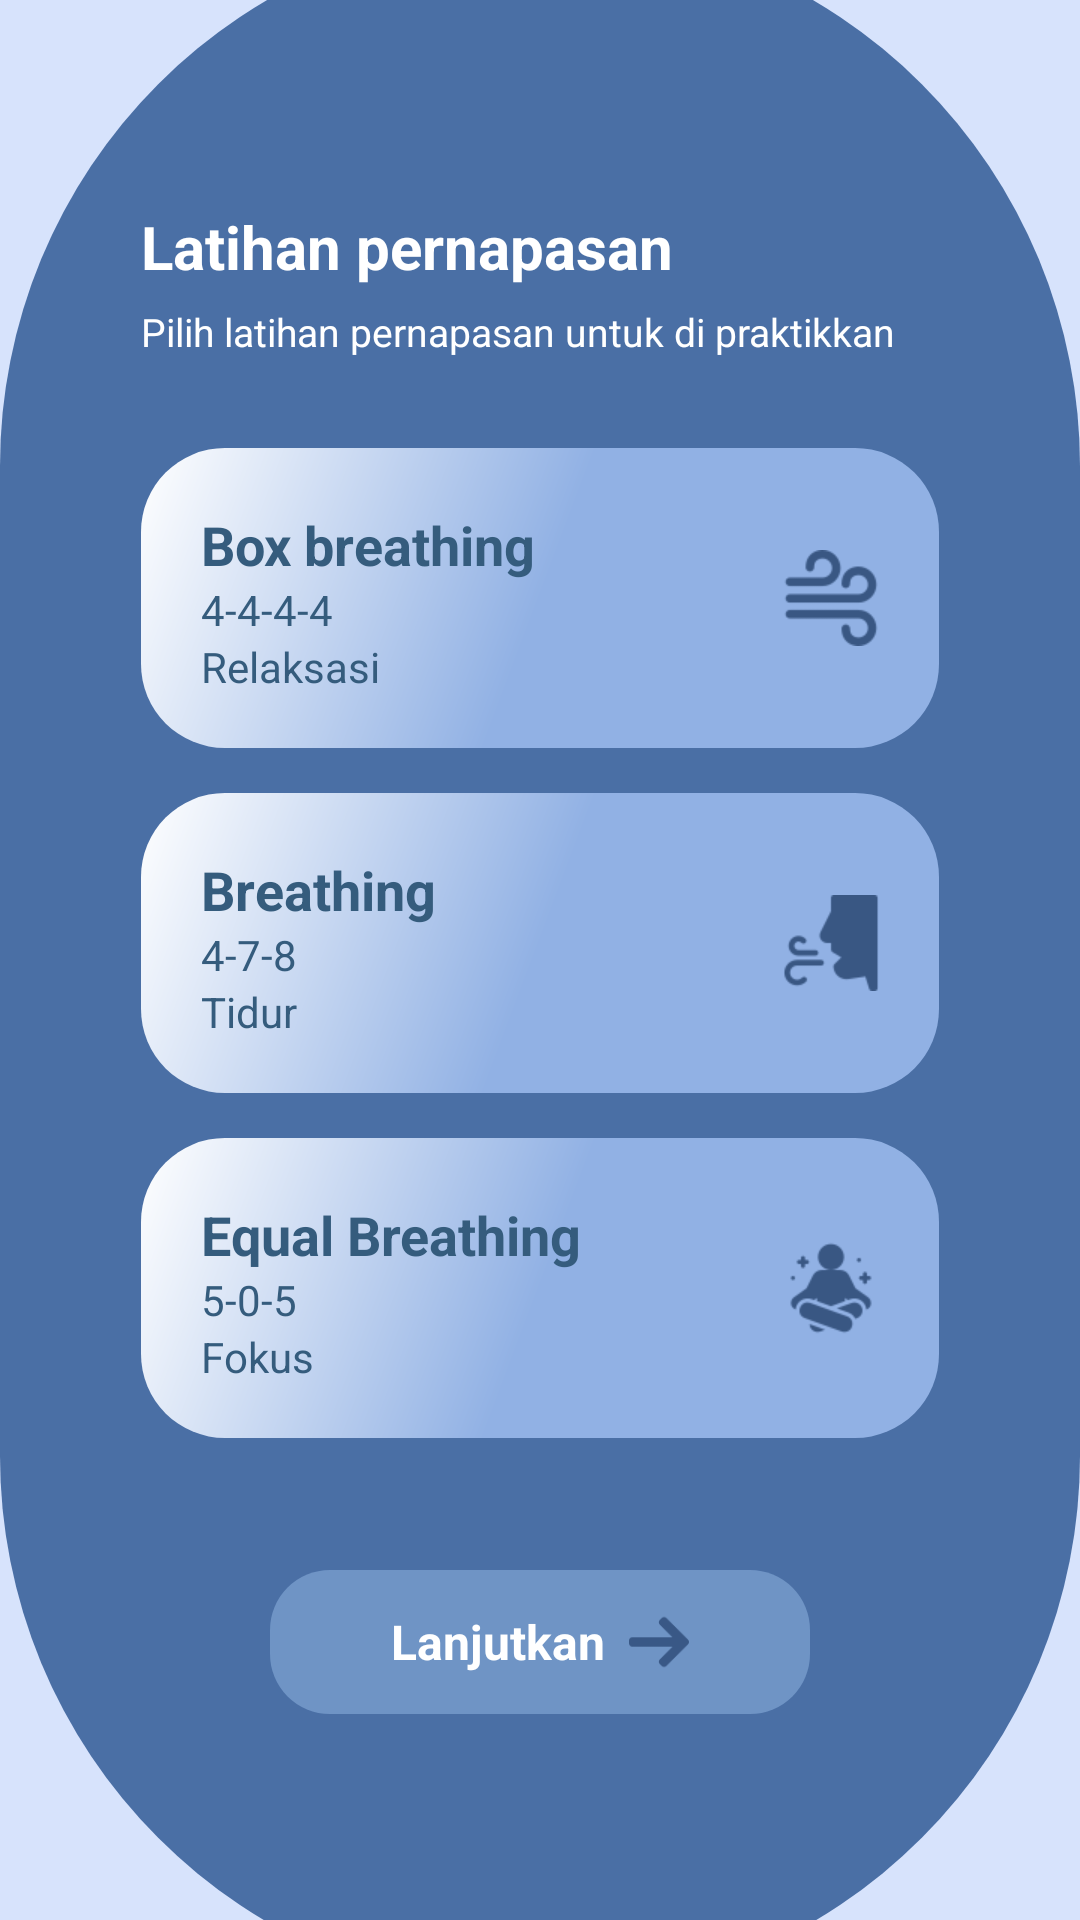

Icons on this 1080 × 1920 Android screen, each with the point to tap as [x,y]:
arrow: [659,1642]
breath: [831,943]
wind sign: [831,598]
yoga: [831,1288]
